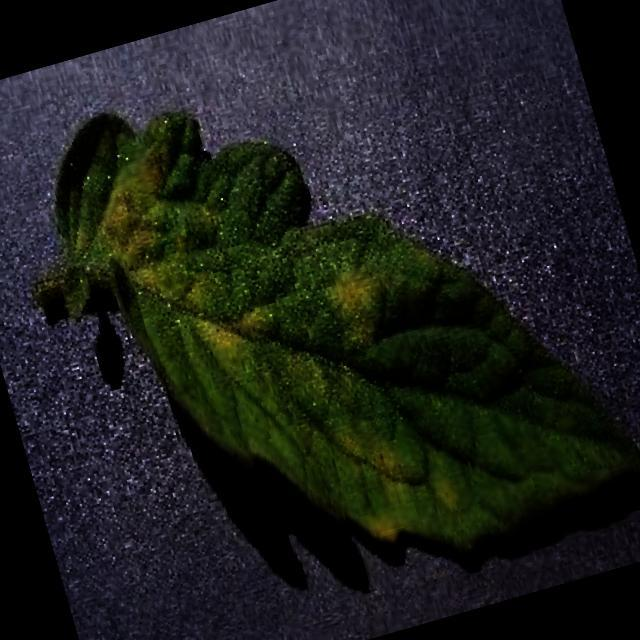Tomato mold leaf: (33, 0, 640, 640)
